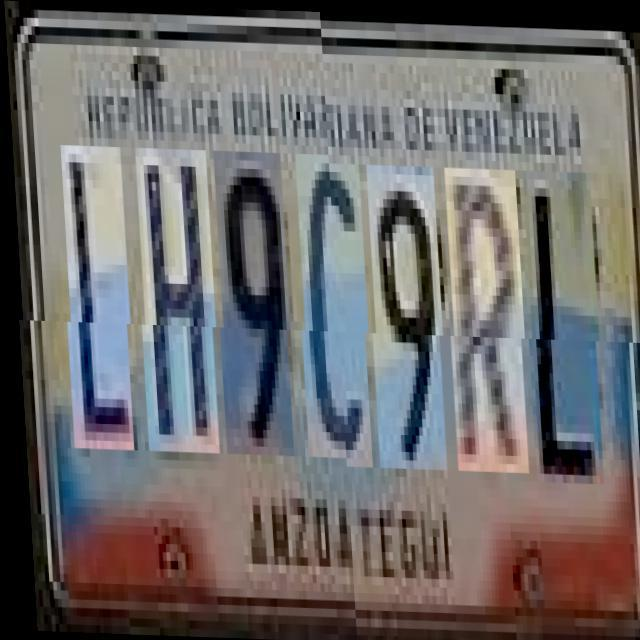9: (364, 162, 445, 467), (212, 158, 292, 462)
C: (293, 160, 371, 465)
H: (134, 155, 218, 460)
L: (520, 167, 602, 480), (59, 153, 133, 458)
R: (442, 164, 527, 469)
